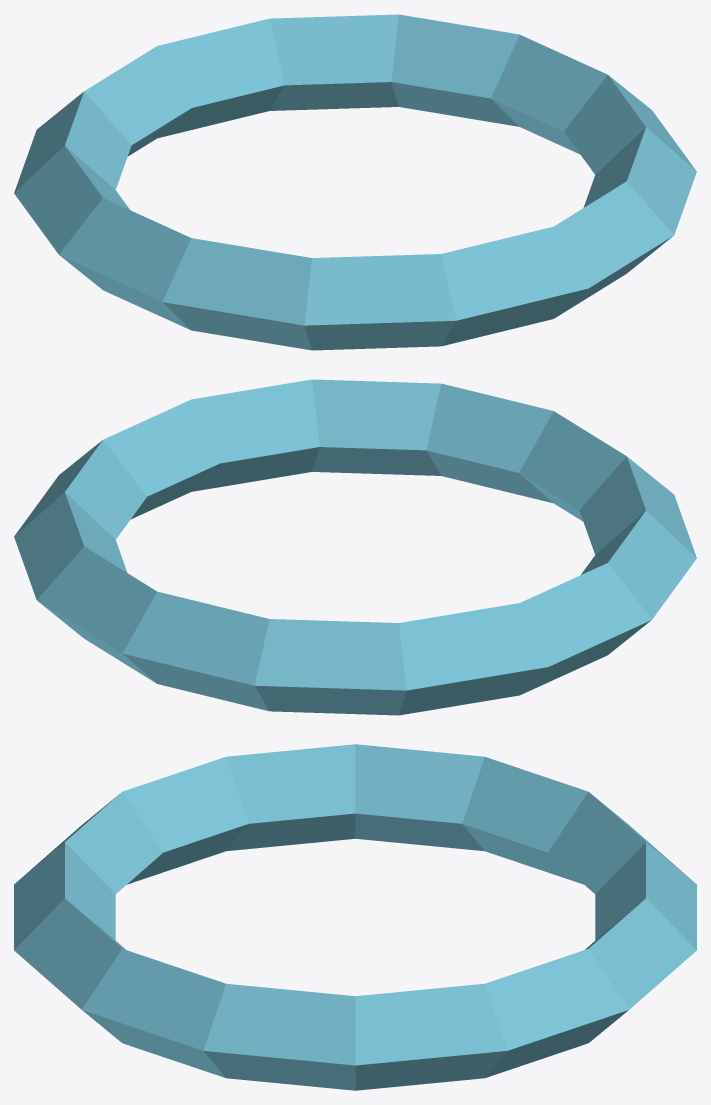
The model's file is start.glb.
3 renders of one model, top to bottom at view 1: azimuth 30°, elevation 25°; view 2: azimuth 150°, elevation 25°; view 3: azimuth 270°, elevation 25°, orthographic. The views are drawn at different scales.
Parts seen in each view (by area): view 1: Start; view 2: Start; view 3: Start.
Boxes of the visible parts, bbox=[...] form: Start: bbox=[14, 14, 696, 350]; Start: bbox=[14, 379, 696, 715]; Start: bbox=[14, 744, 696, 1090].
Size of the model in its own units: 0.94 by 0.14 by 0.9164.
